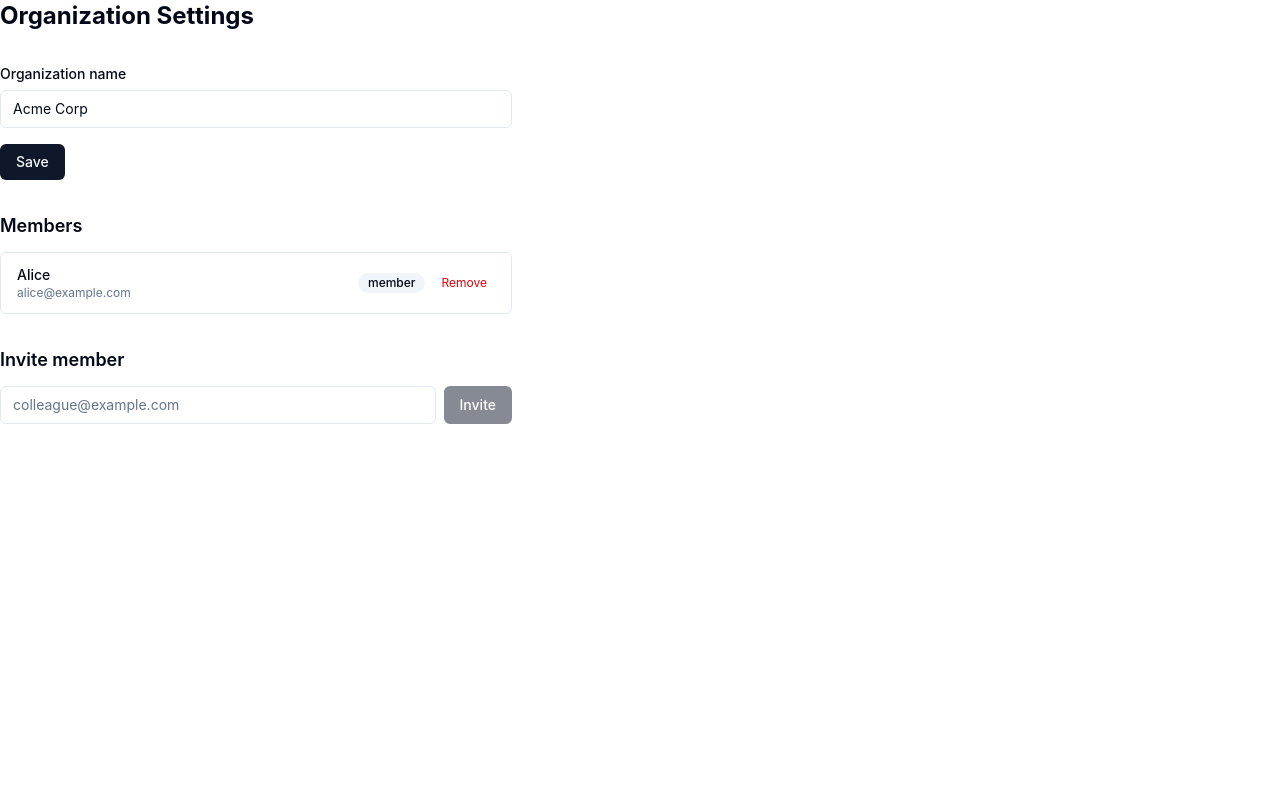
it: OrgSettingsPage › member removal dialog focus trap › moves focus to Cancel button when dialog opens
Click the button with aria-label "Remove Alice". click: point(464, 283)
box: [434, 271, 495, 295]
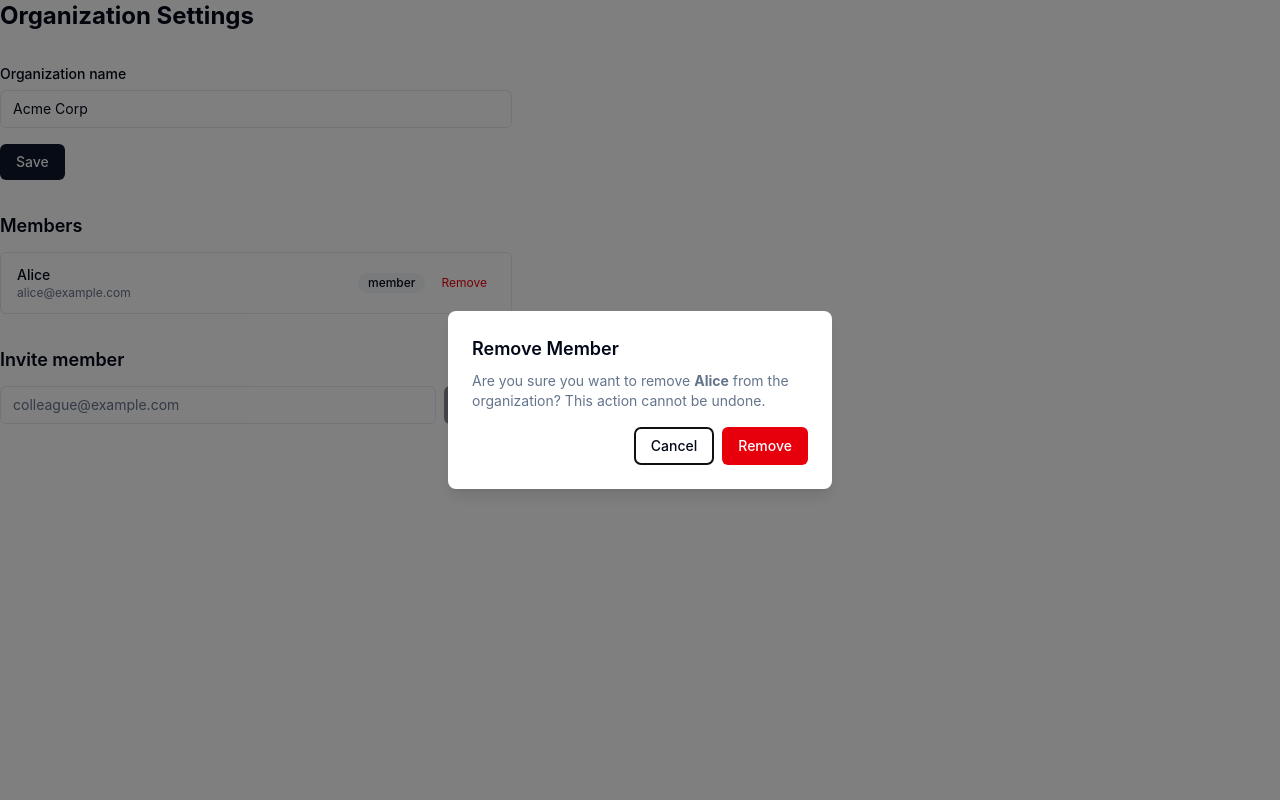
Expected: the dialog is shown, [448, 311, 832, 489]
